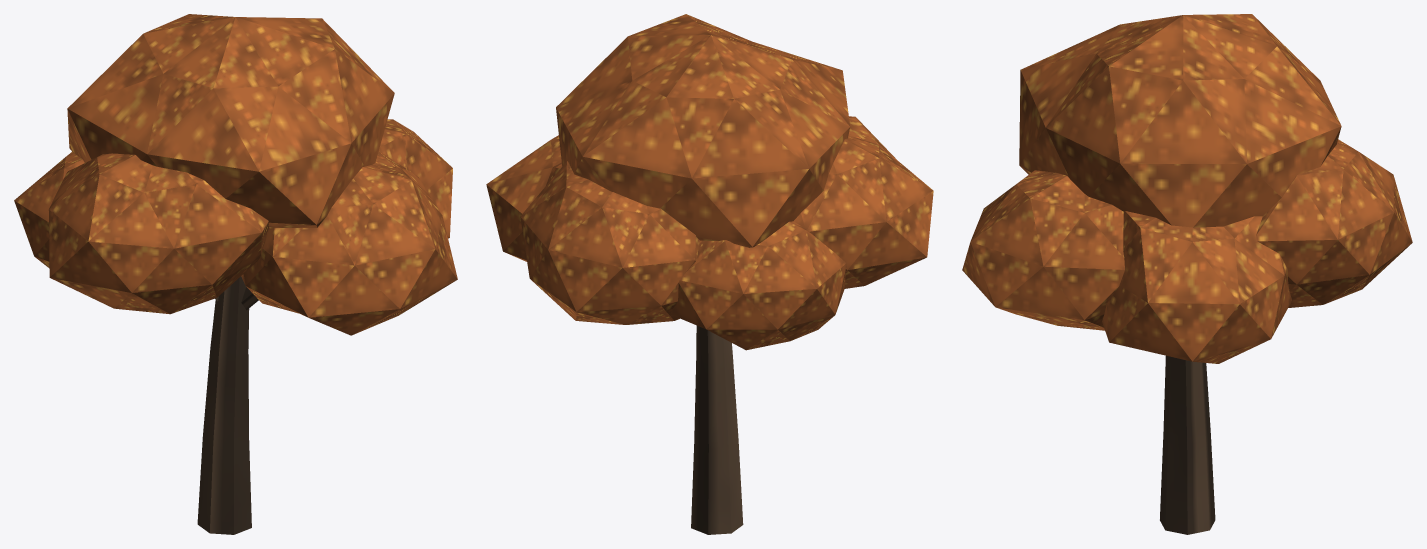
File: tree_oak.obj
3 renders of one model, left to right at view 1: azimuth 30°, elevation 25°; view 2: azimuth 150°, elevation 25°; view 3: azimuth 270°, elevation 25°, orthographic. The views are drawn at different scales.
Parts seen in each view (by area): view 1: tree_oak; view 2: tree_oak; view 3: tree_oak.
Boxes of the visible parts, <box> form: tree_oak: <box>14,14,457,534</box>; tree_oak: <box>486,14,933,534</box>; tree_oak: <box>962,14,1412,534</box>.
Size of the model in its own units: 5.5 by 6.33 by 5.05.
1 material, 1 textured.
